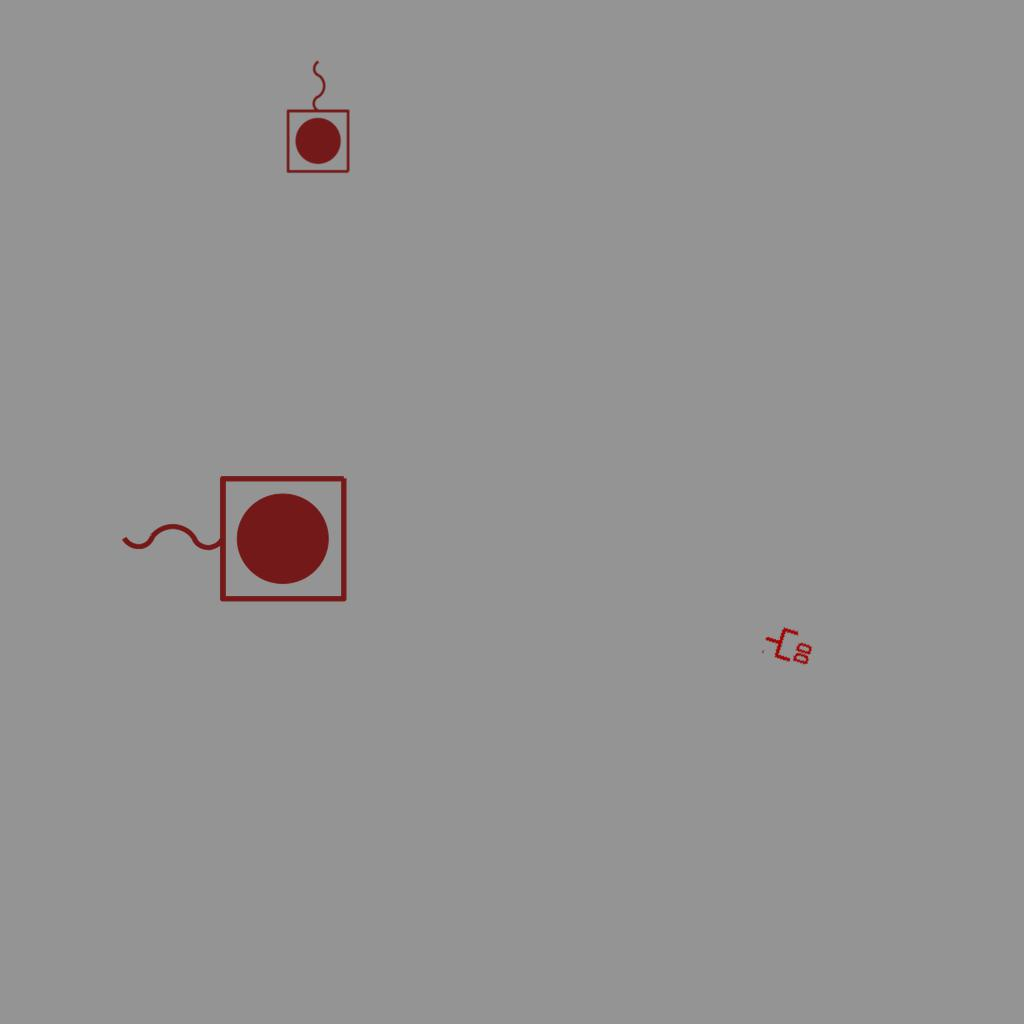Datenanschluss_zweifach: (759, 620, 819, 669)
Zugtaster: (111, 465, 355, 609), (283, 55, 355, 177)
